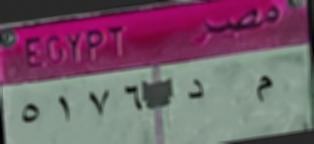1: (54, 88, 79, 125)
5: (13, 99, 44, 130)
6: (123, 80, 142, 110)
7: (85, 85, 114, 116)
daal: (184, 73, 208, 106)
meem: (243, 70, 281, 111)
